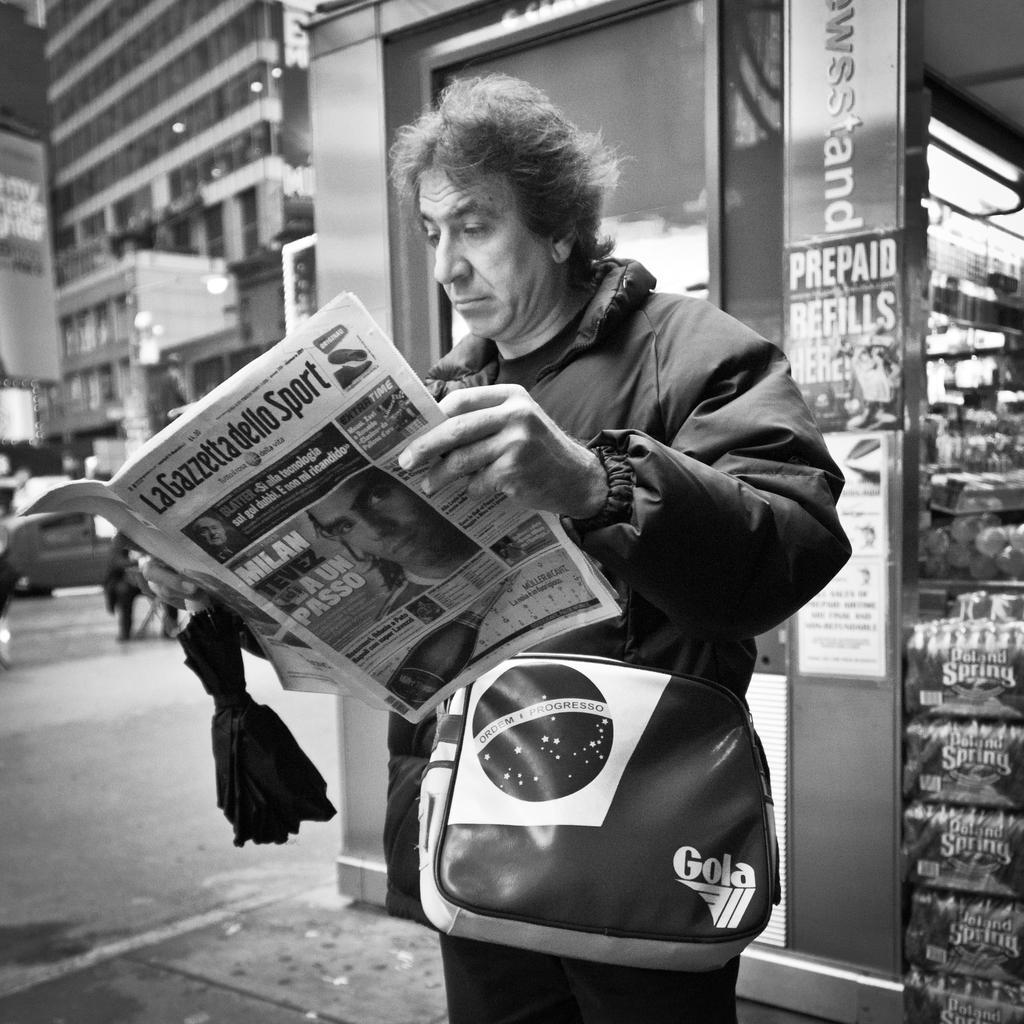Luggage-and-bags: (404, 257, 787, 980)
